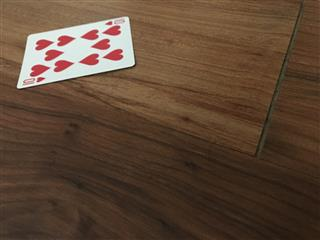TenOfHearts: (15, 14, 136, 88)
